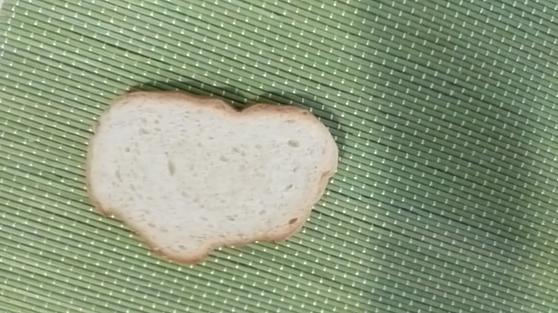white_bread: (87, 90, 340, 264)
